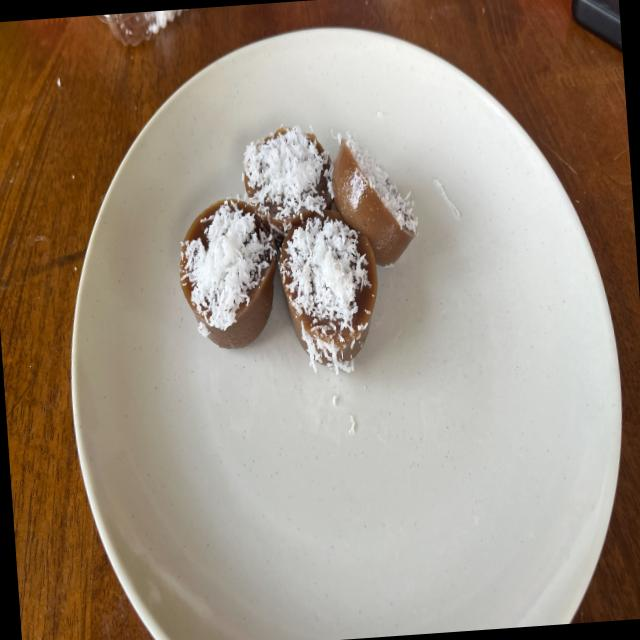Kuih lompang: (278, 210, 377, 372), (180, 199, 276, 349), (331, 131, 417, 265), (243, 125, 333, 240)
